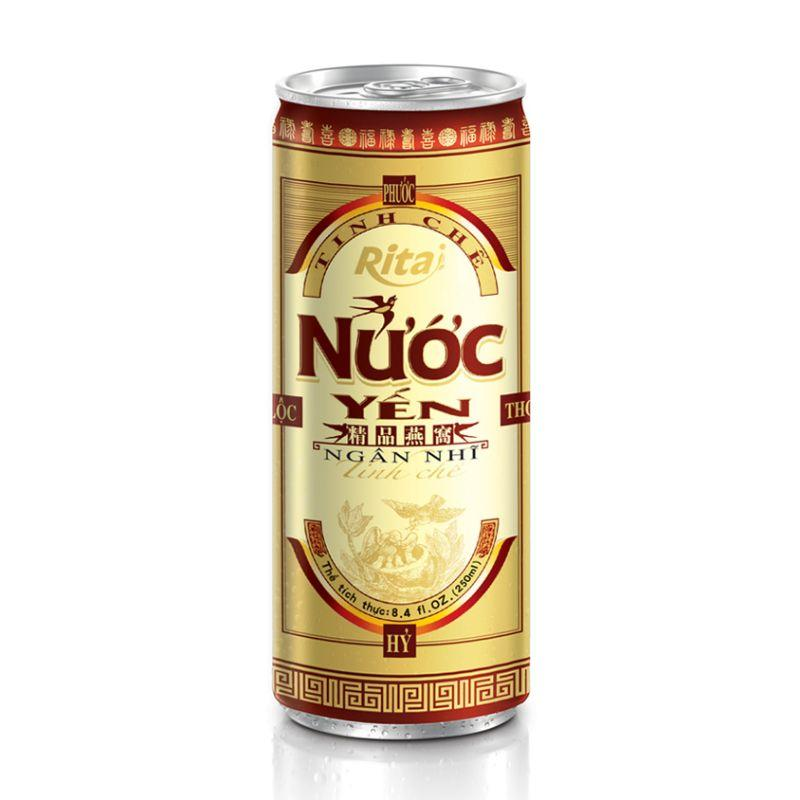metal: (273, 65, 530, 738)
